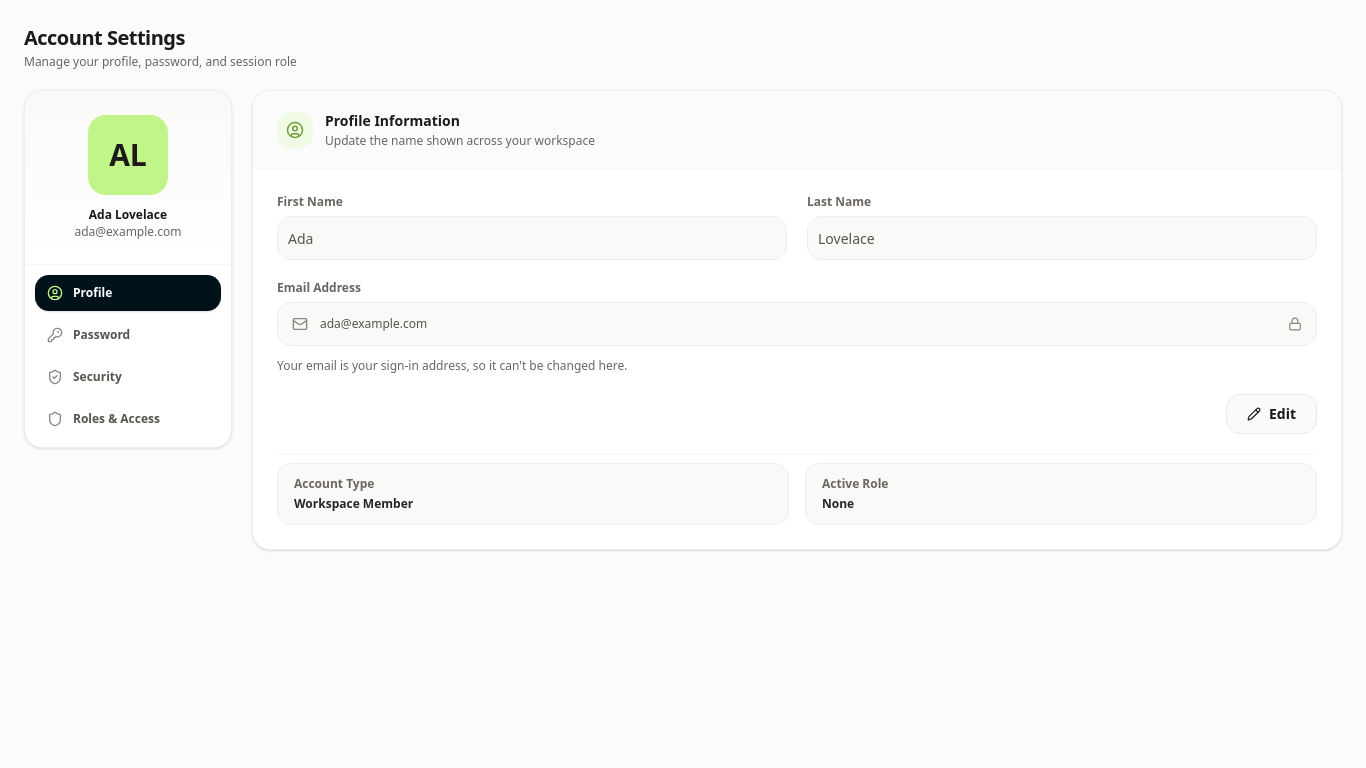
Test: AccountSettingsPage profile name › Cancel discards the edit, restores the saved name, and locks the fields again
The image size is (1366, 768).
Click the button with aria-label "Edit name". click: (1271,414)
box: [1226, 394, 1317, 434]
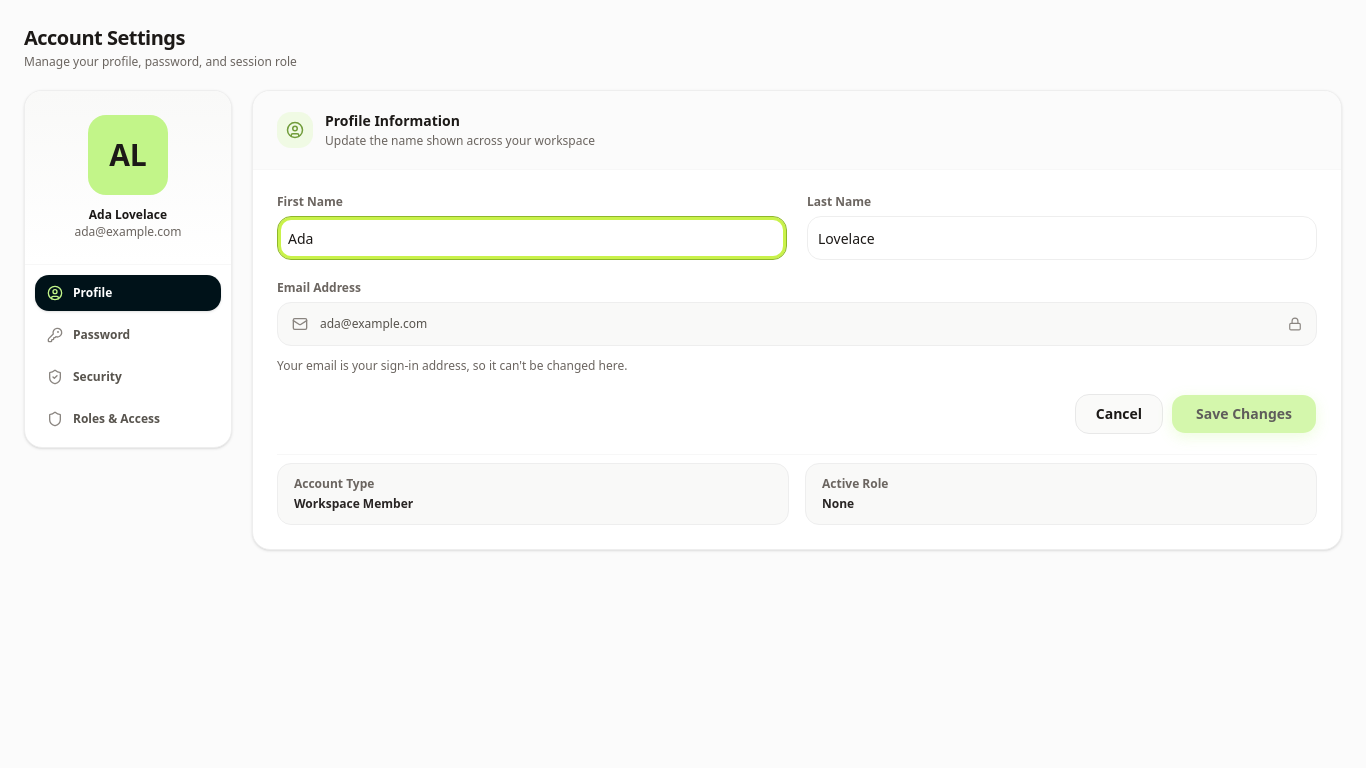
Replace the text in the field labelled "Last Name" with "Byron". click: (1062,238)
box: [807, 216, 1317, 260]
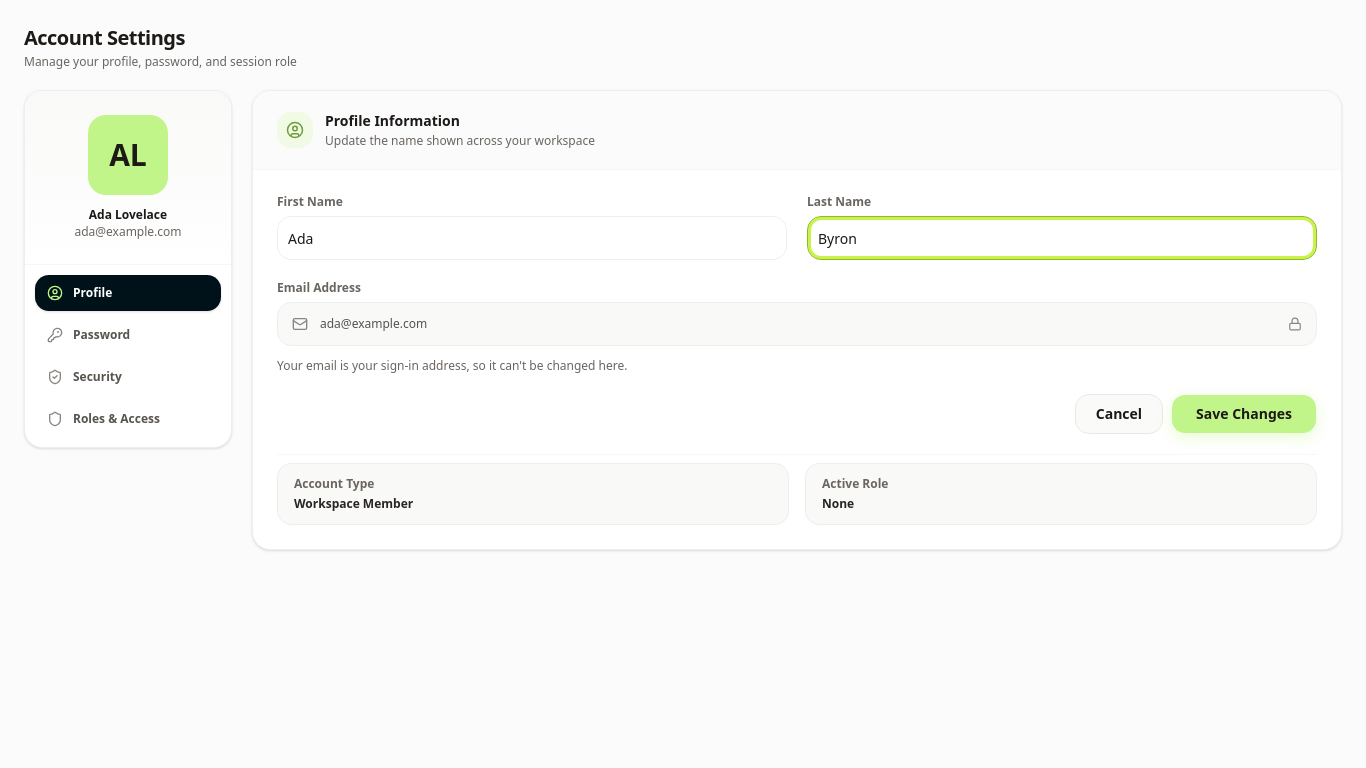
Click the button with aria-label "Cancel editing". click: (1119,414)
box: [1075, 394, 1163, 434]
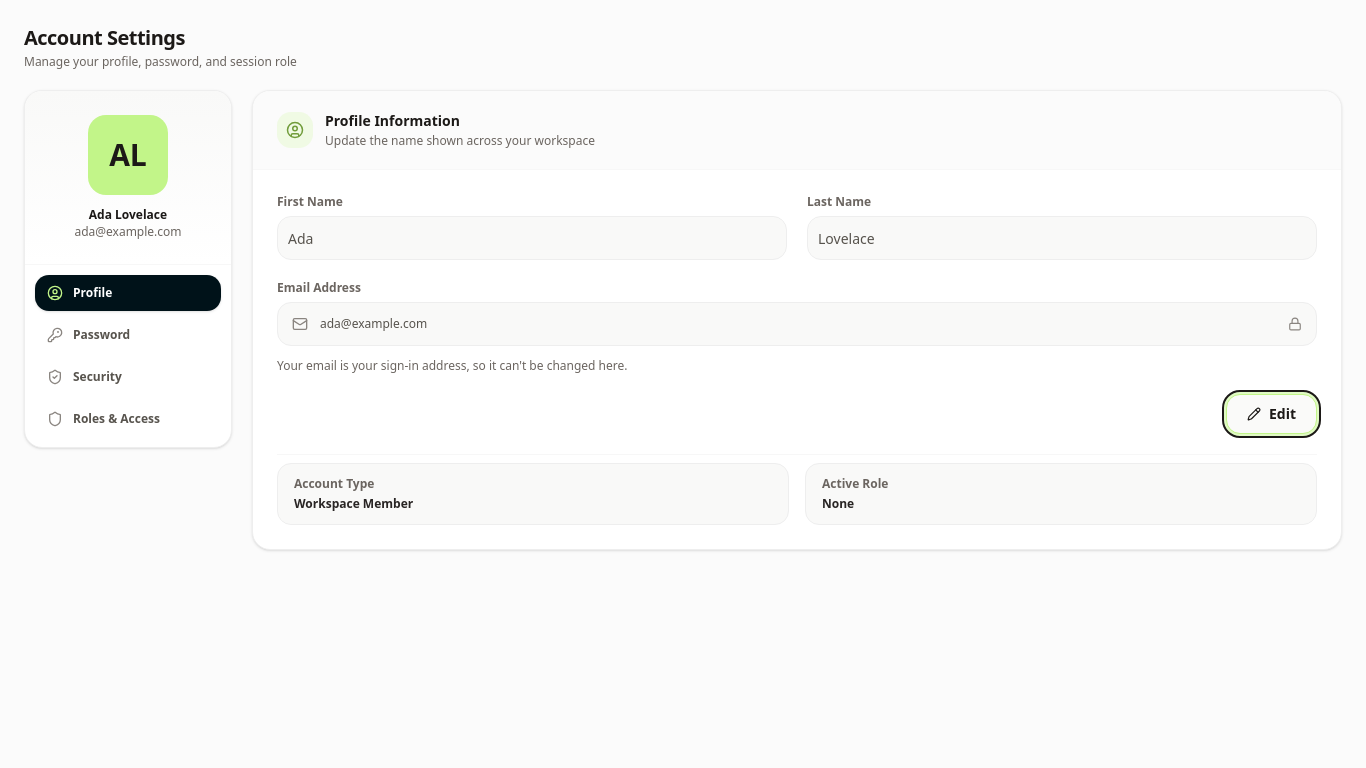
Expected: the text "Ada Lovelace" is shown, [89, 206, 167, 223]
Result: the field labelled "Last Name" holds "Lovelace" at [807, 216, 1317, 260]
Result: the button with aria-label "Edit name" is shown at [1226, 394, 1317, 434]
